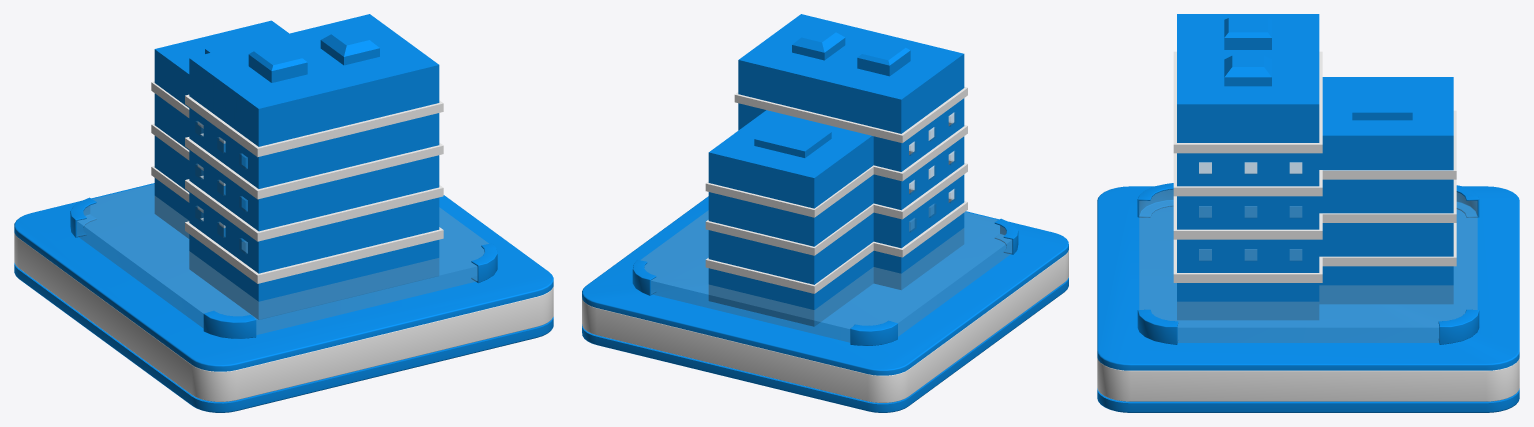
File: 无设备.glb
3 views of the same model, side by side, from view 1: azimuth 30°, elevation 25°; view 2: azimuth 150°, elevation 25°; view 3: azimuth 270°, elevation 25° (orthographic). The views are drawn at different scales.
Parts seen in each view (by area): view 1: 布尔.001, 立方体_5.001, 立方体_4.001, 立方体_1.001, 布尔.002, 立方体_7.001, 立方体_7.002, 布尔.003; view 2: 立方体_5.001, 布尔.001, 立方体_7.001, 立方体_4.001, 立方体_1.001, 布尔.002, 立方体_7.002, 布尔.003; view 3: 立方体_5.001, 布尔.001, 立方体_7.001, 立方体_4.001, 立方体_1.001, 布尔.002, 立方体_7.002, 布尔.003.
Part boxes in pixels (box(x1,y1,x2,y2)): 布尔.001: box(189, 14, 439, 319); 立方体_5.001: box(14, 183, 553, 412); 立方体_4.001: box(77, 184, 488, 334); 立方体_1.001: box(14, 233, 553, 401); 布尔.002: box(185, 94, 443, 283); 立方体_7.001: box(154, 20, 288, 253); 立方体_7.002: box(151, 81, 225, 227); 布尔.003: box(195, 121, 247, 253); 立方体_5.001: box(582, 196, 1068, 412); 布尔.001: box(738, 14, 964, 289); 立方体_7.001: box(708, 110, 873, 326); 立方体_4.001: box(641, 204, 1011, 342); 立方体_1.001: box(582, 250, 1068, 402); 布尔.002: box(734, 86, 967, 257); 立方体_7.002: box(705, 166, 873, 293); 布尔.003: box(909, 112, 955, 232); 立方体_5.001: box(1097, 183, 1519, 412); 布尔.001: box(1177, 14, 1319, 320); 立方体_7.001: box(1319, 77, 1453, 304); 立方体_4.001: box(1139, 190, 1477, 342); 立方体_1.001: box(1097, 358, 1519, 401); 布尔.002: box(1173, 51, 1322, 282); 立方体_7.002: box(1322, 110, 1456, 266); 布尔.003: box(1199, 162, 1301, 260).
Size of the model in its own units: 0.6574 by 0.4832 by 0.6574.
Materials: 5 (5 with a texture image).
